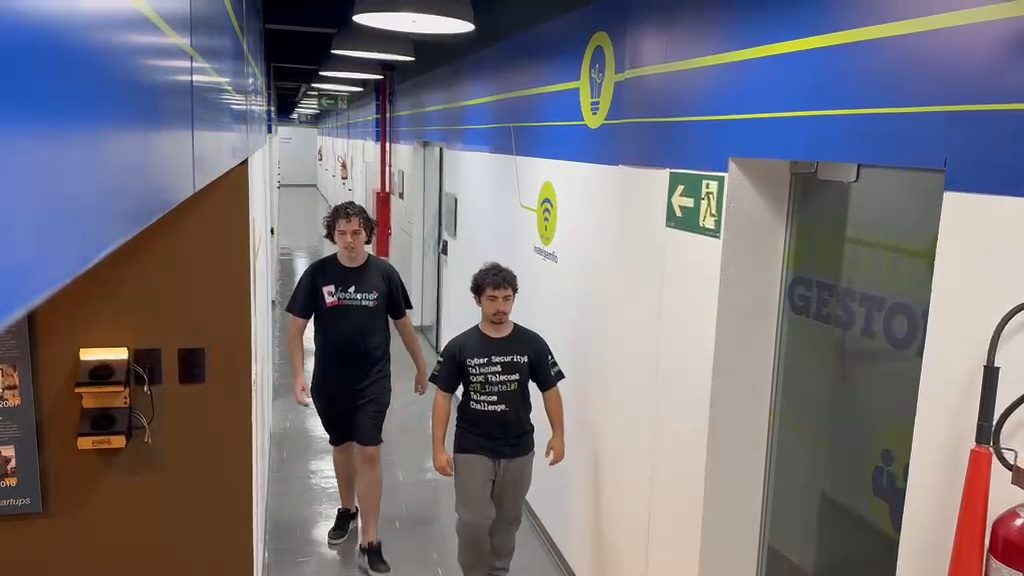person: (285, 201, 437, 571), (427, 261, 568, 572)
